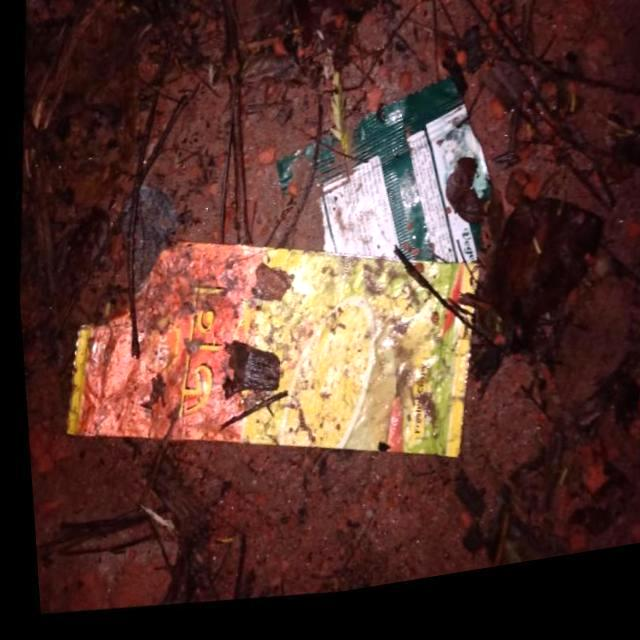packet: (49, 209, 487, 515), (266, 81, 494, 304)
